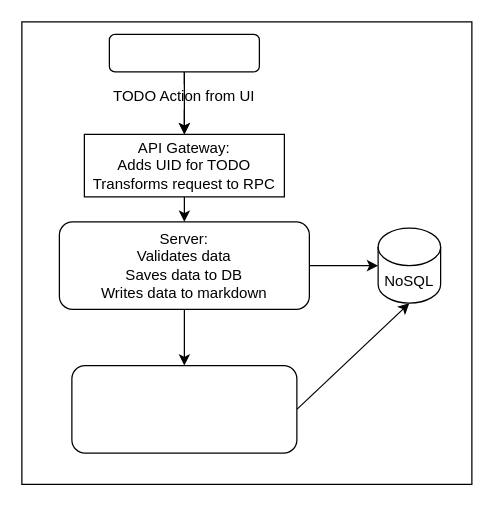
Some shapes in this 494 by 506 pixel diagram are drawn without their labels. The shapes that lost their labels are listed below. From the top down, each one's centre as x and y in pixels, then its label:
At [183,52]: "Angular App".
At [184,408]: "Markdown Service: Parses markdown Adds UID for TODO Saves data to DB".
